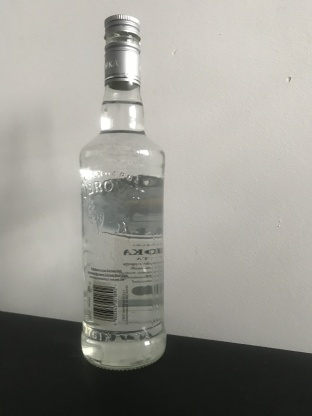nakretka: (102, 13, 142, 90)
